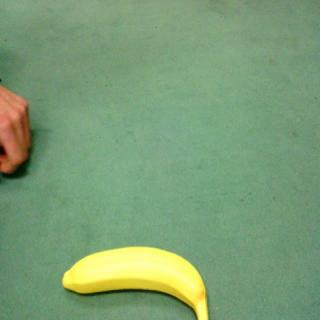banana: (53, 241, 219, 320)
